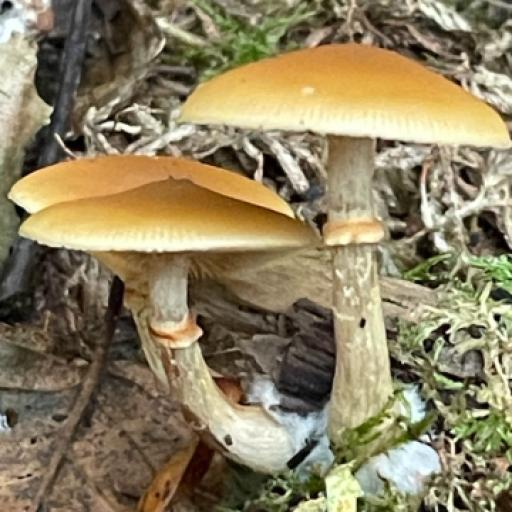mushroom: (10, 26, 506, 415)
